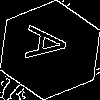A: (25, 25, 78, 65)
